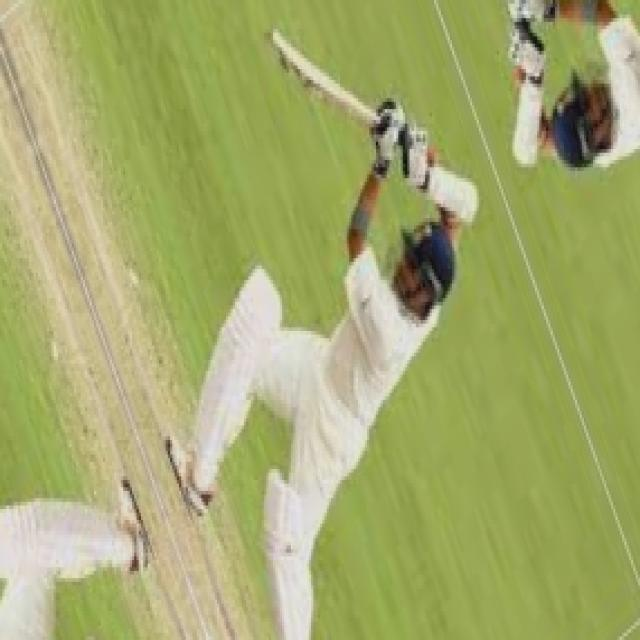toe: (265, 27, 307, 81)
